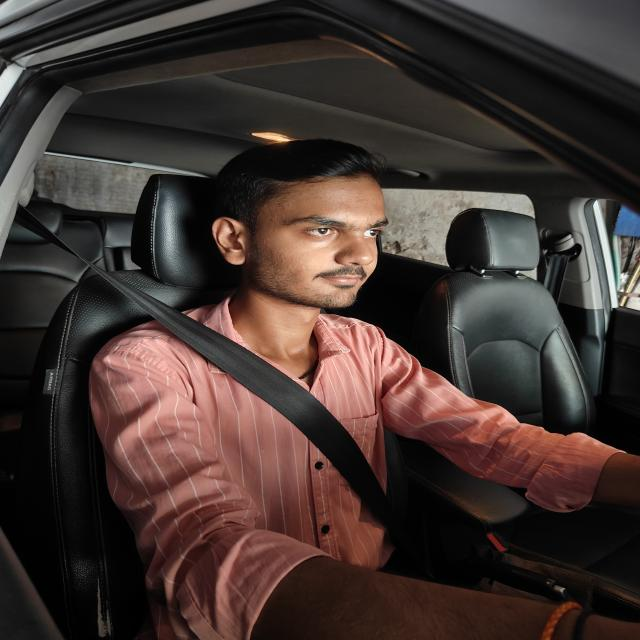seatbelt: (11, 196, 415, 556)
